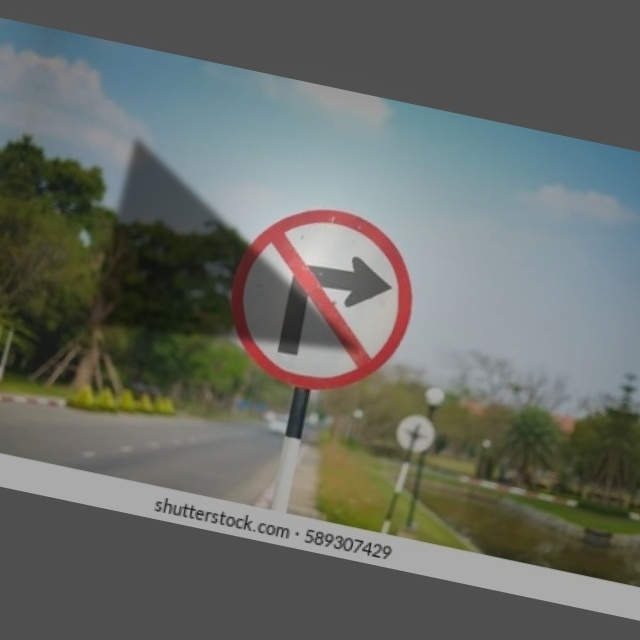Right_Turn_Prohibited: (214, 193, 430, 409)
